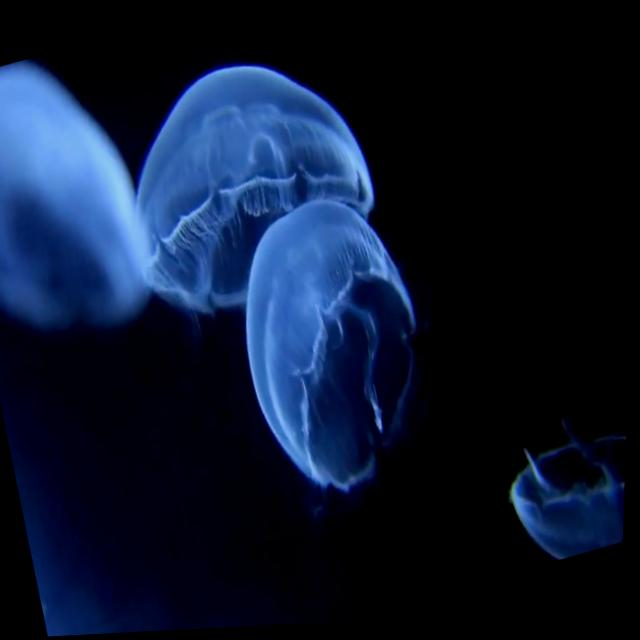Moon-jellyfish: (136, 63, 376, 314), (247, 204, 418, 477), (0, 55, 155, 331), (509, 417, 629, 566)
